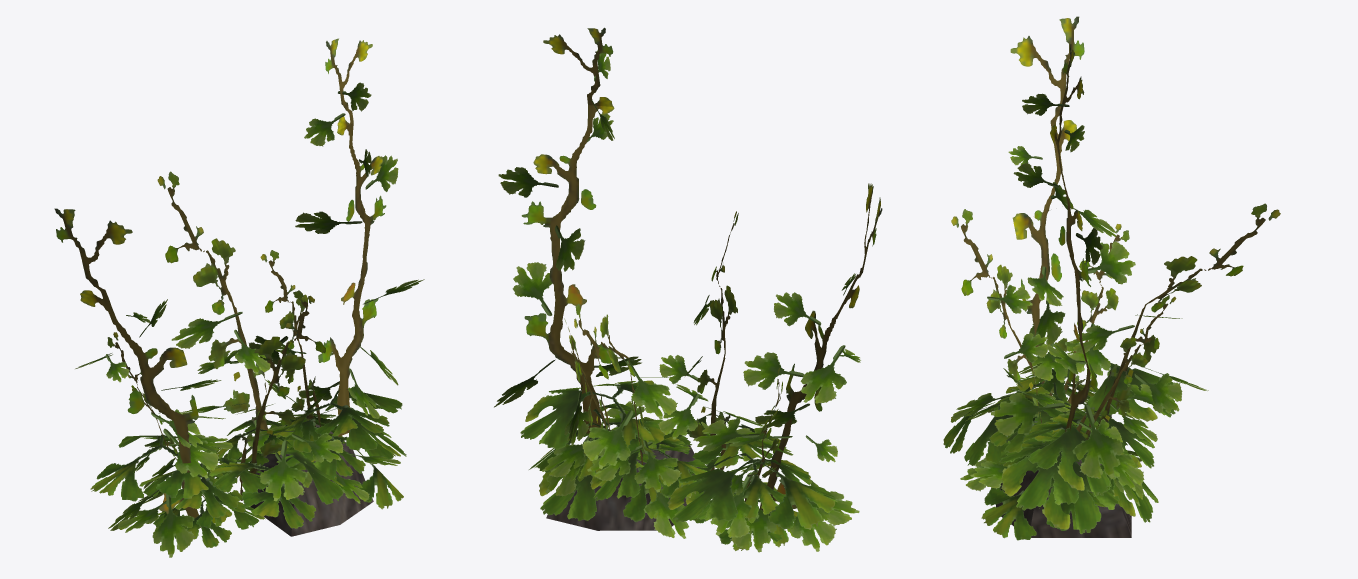
3 renders of one model, left to right at view 1: azimuth 30°, elevation 25°; view 2: azimuth 150°, elevation 25°; view 3: azimuth 270°, elevation 25°, orthographic. The views are drawn at different scales.
Visible parts, largest first — view 1: MS0003_06; view 2: MS0003_06; view 3: MS0003_06.
Part boxes in pixels (box(x1,y1,x2,y2)): MS0003_06: box(54, 38, 424, 557); MS0003_06: box(494, 27, 882, 552); MS0003_06: box(943, 16, 1280, 540).
Bounding box in the file's own units: 0.5275 × 0.6171 × 0.466.
